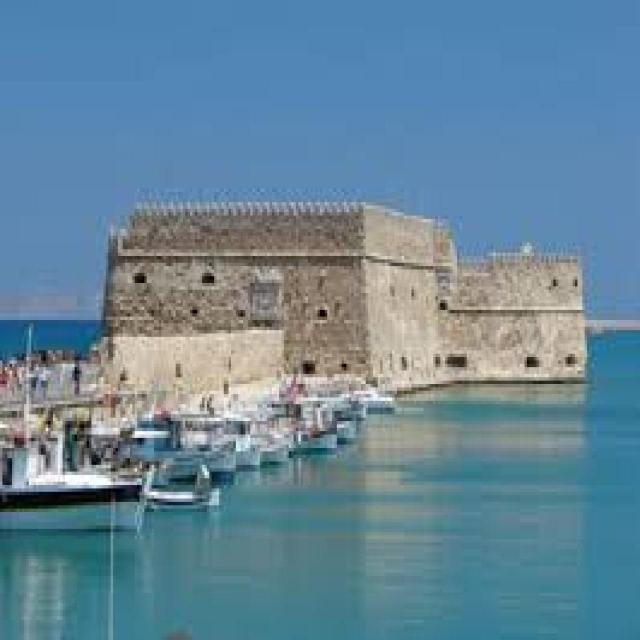Kules: (104, 191, 590, 392)
